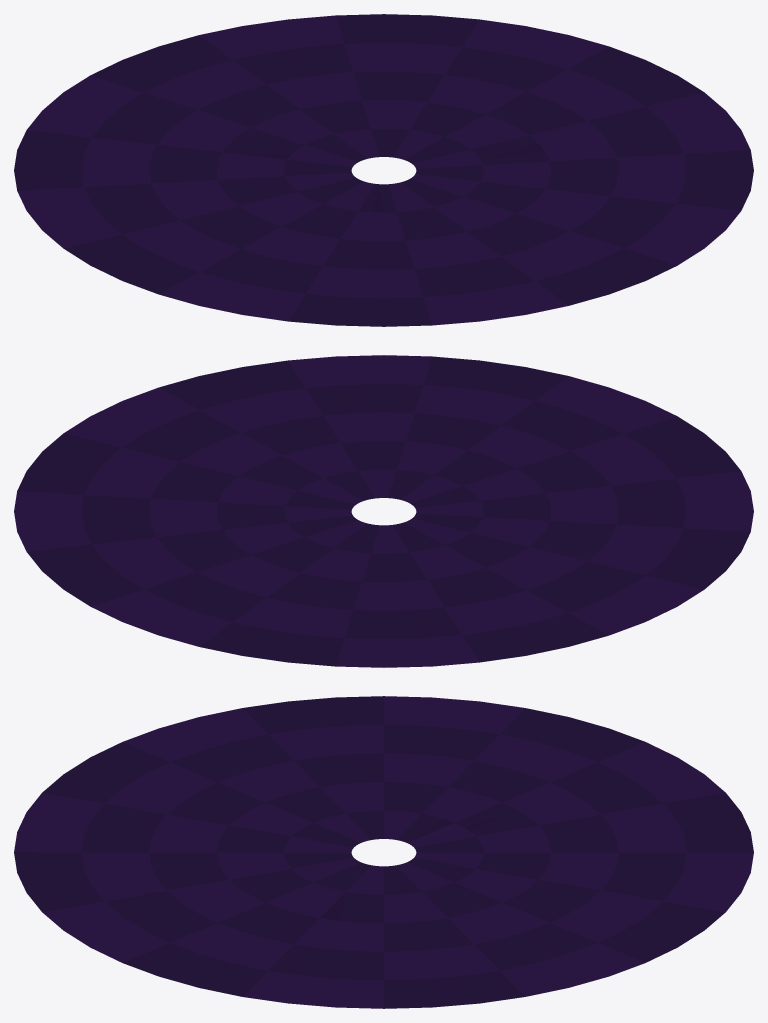
Rendered from W6_Ground_Skirt.fbx.
3 renders of one model, top to bottom at view 1: azimuth 30°, elevation 25°; view 2: azimuth 150°, elevation 25°; view 3: azimuth 270°, elevation 25°, orthographic.
Parts seen in each view (by area): view 1: W6_Ground_Skirt; view 2: W6_Ground_Skirt; view 3: W6_Ground_Skirt.
Part boxes in pixels (x1,y1,x2,y2): W6_Ground_Skirt: (14, 14, 753, 326); W6_Ground_Skirt: (14, 355, 753, 667); W6_Ground_Skirt: (14, 696, 753, 1008).
Size of the model in its own units: 6400 by 2.26 by 6400.
